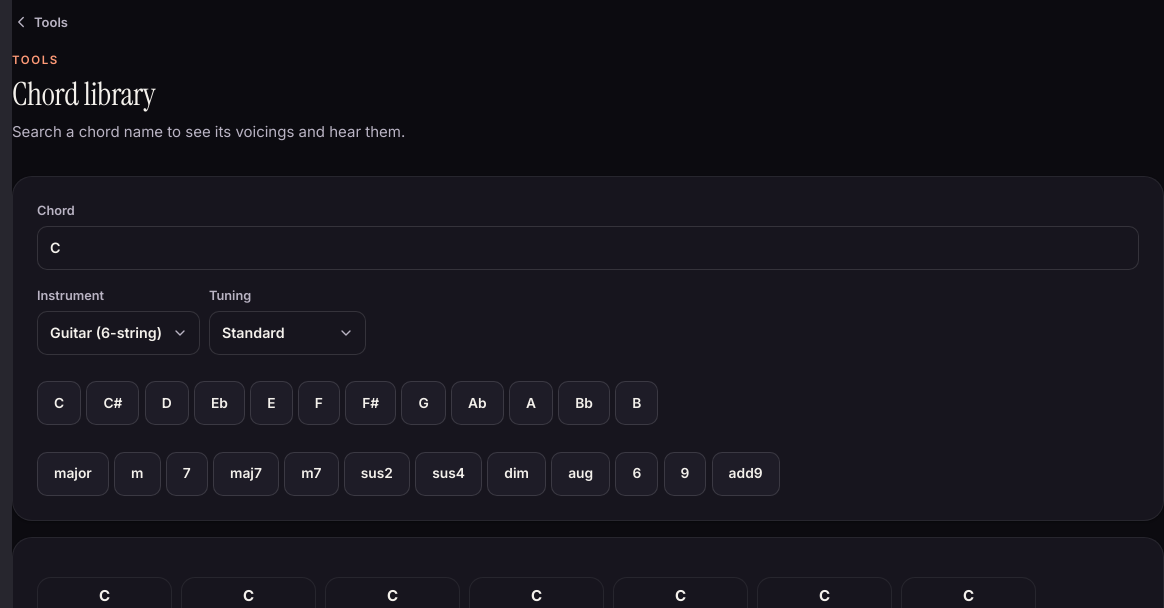
Test: ChordLibraryView › builds the name from root and quality buttons
The image size is (1164, 608).
Click the button with test id "chord-root-F#".
click(371, 403)  # box [345, 381, 396, 425]
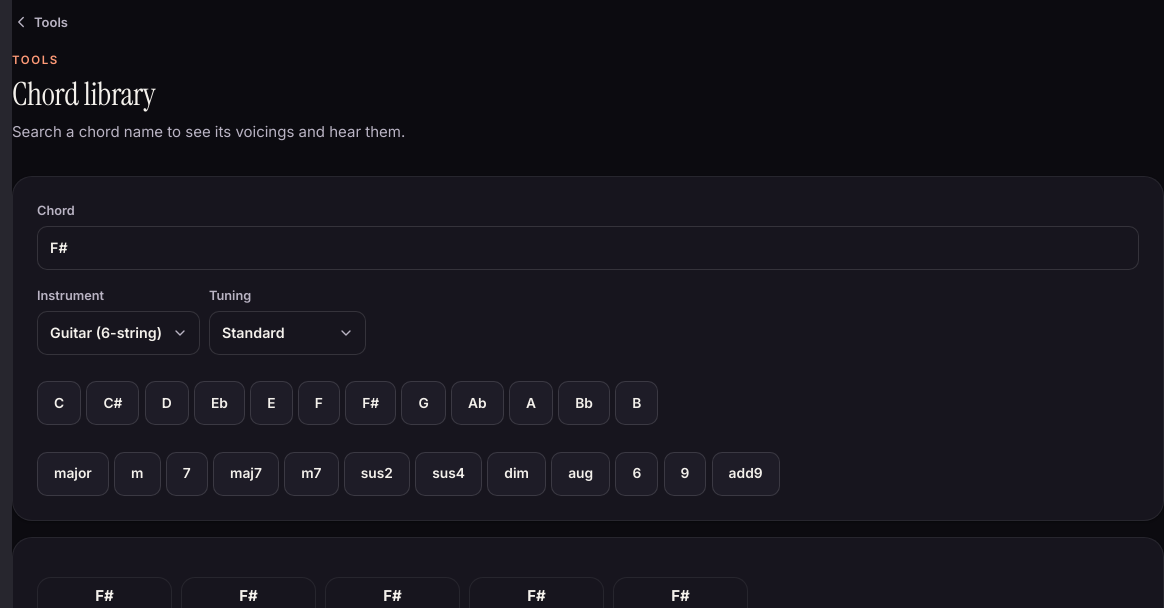
expect the field with test id "chord-search" holds "F#": met, box [37, 226, 1139, 270]
Click the button with test id "chord-quality-m7".
click(311, 474)  # box [284, 452, 338, 496]
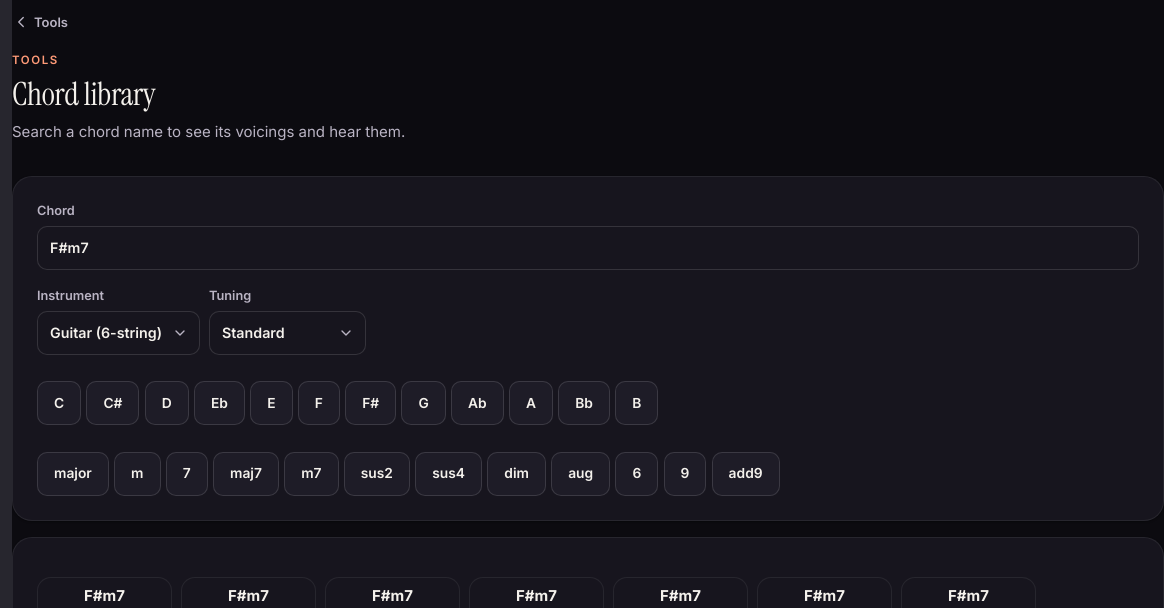
expect the field with test id "chord-search" holds "F#m7": met, box [37, 226, 1139, 270]
Click the button with test id "chord-root-Bb".
click(584, 403)  # box [558, 381, 610, 425]
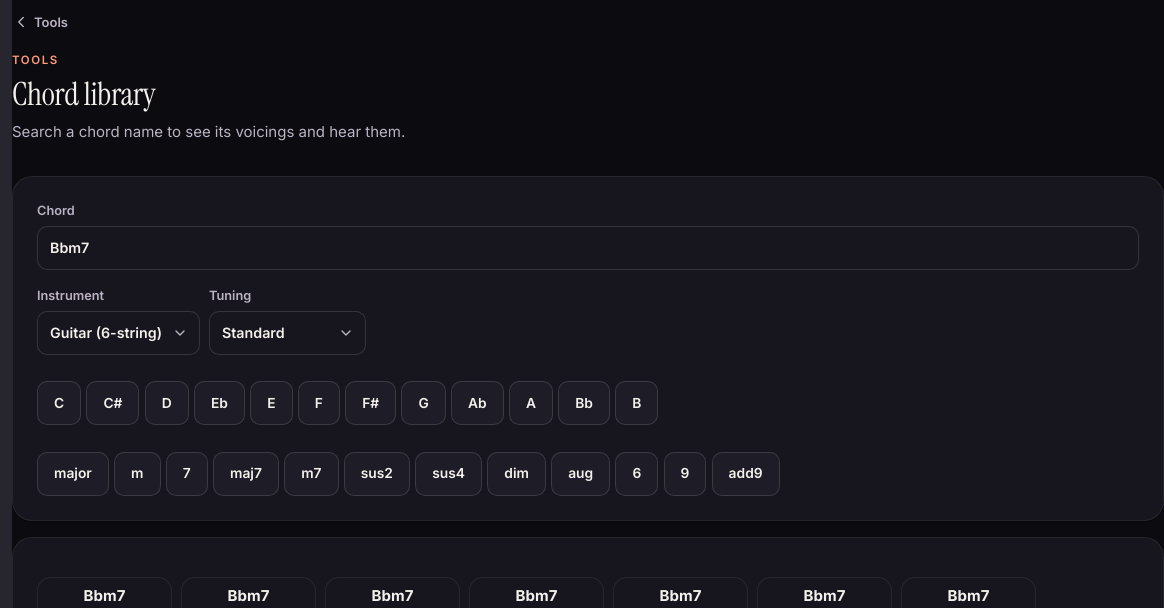
expect the field with test id "chord-search" holds "Bbm7": met, box [37, 226, 1139, 270]
Click the button with test id "chord-quality-maj".
click(73, 474)  # box [37, 452, 109, 496]
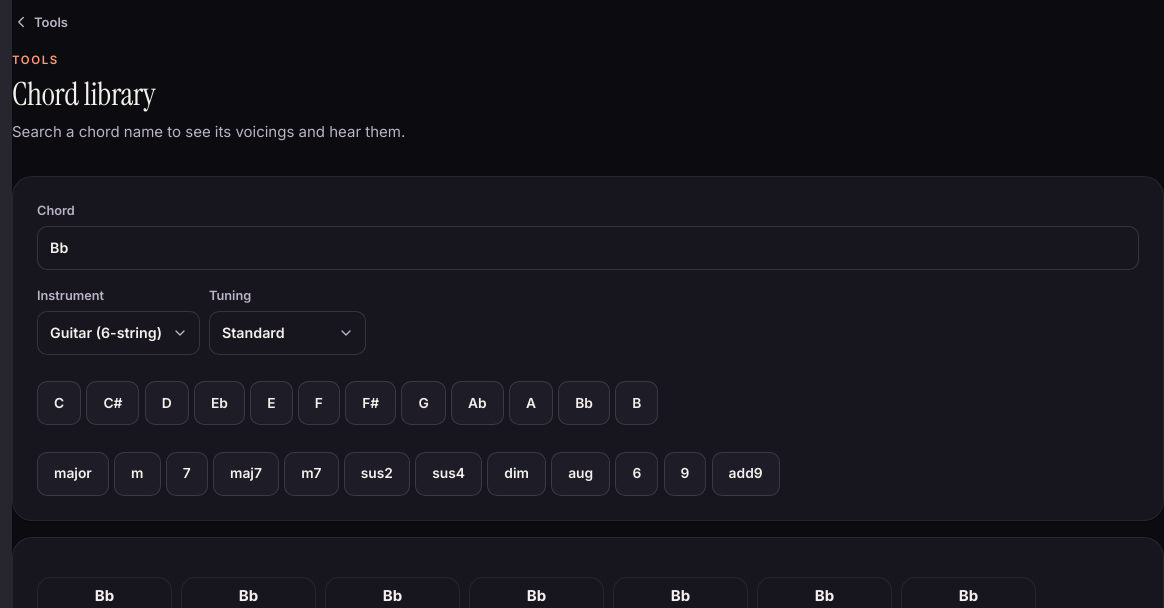
expect the field with test id "chord-search" holds "Bb": met, box [37, 226, 1139, 270]
